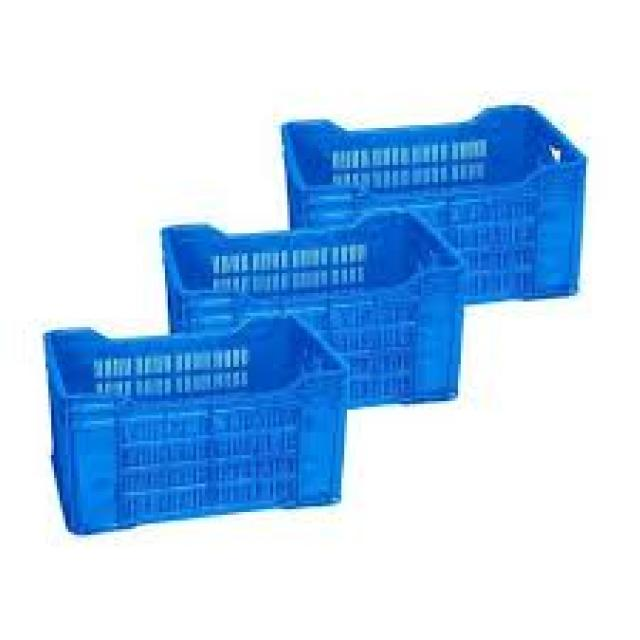basket: (282, 90, 603, 323), (163, 199, 478, 428), (44, 315, 356, 536)
